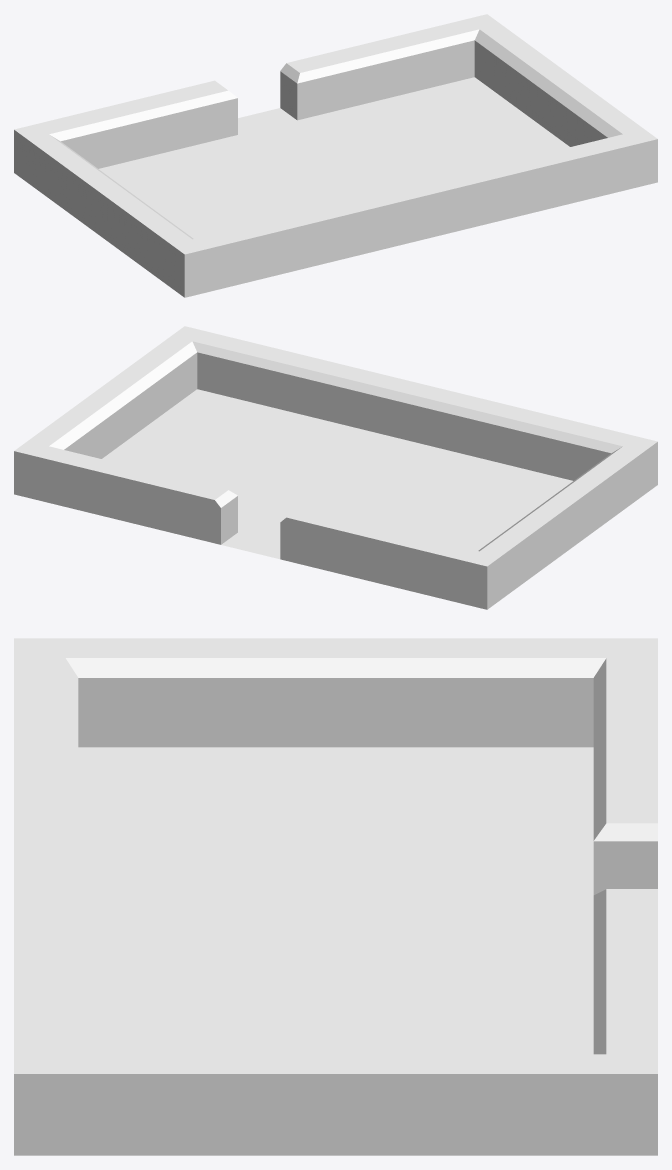
Rendered from Room00.obj.
3 views of the same model, one above another, from view 1: azimuth 30°, elevation 25°; view 2: azimuth 150°, elevation 25°; view 3: azimuth 270°, elevation 25° (orthographic). The views are drawn at different scales.
Visible parts, largest first — view 1: room0x0; view 2: room0x0; view 3: room0x0.
Boxes of the visible parts, <box> form: room0x0: <box>14,14,657,297</box>; room0x0: <box>14,326,657,609</box>; room0x0: <box>14,638,657,1155</box>.
Size of what is drawn, in the model's own units: 80 by 7 by 50.
